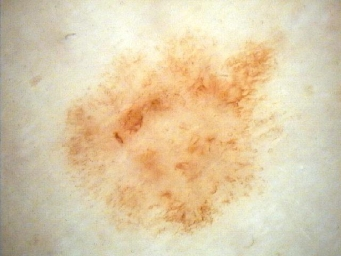melanoma: (66, 31, 270, 236)
